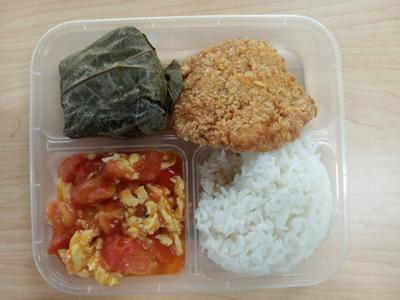jdxhs: (42, 151, 193, 286)
rice: (196, 142, 345, 282)
